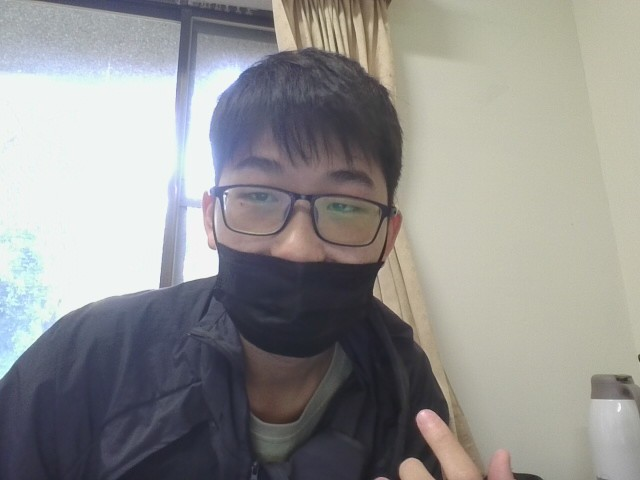No_Gloves: (352, 404, 579, 480)
No_Helmet: (198, 39, 408, 273)
person: (11, 29, 601, 480)
